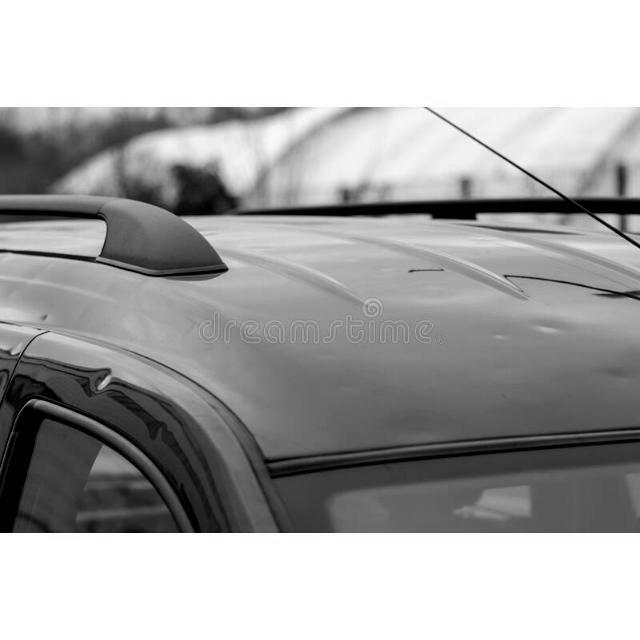roof-dent: (409, 219, 639, 487)
